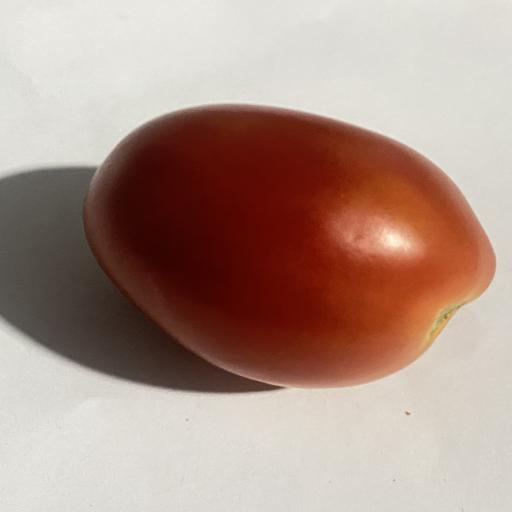ripe: (84, 105, 495, 387)
